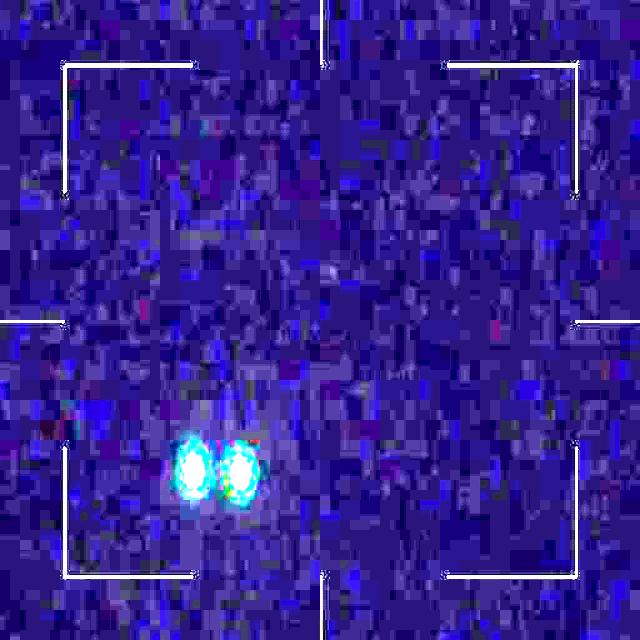bird: (181, 448, 252, 496)
